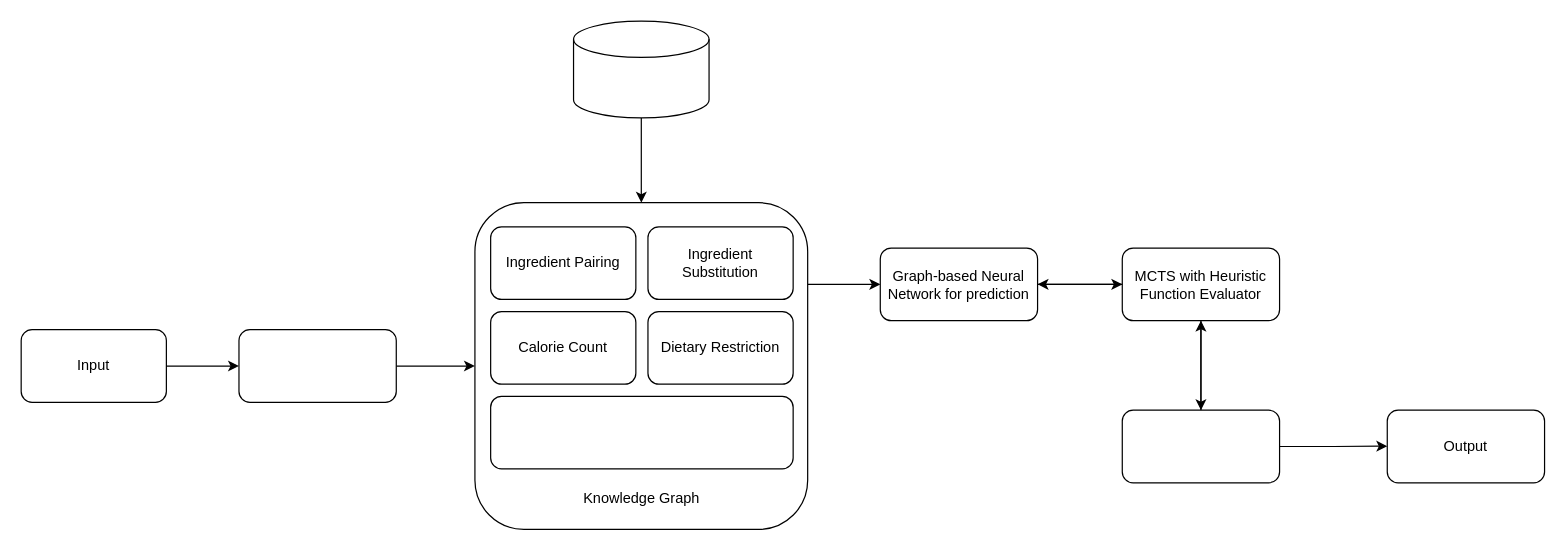
Image size: 1566x551. Some labels were removed from this diagram. Each missing label, with the centre of its shape:
"Dataset" belongs at point (640, 69).
"Feature Extraction" belongs at point (317, 365).
"Ingredient Measurement" belongs at point (641, 432).
"Large Language Model for recipe generation" belongs at point (1200, 446).
